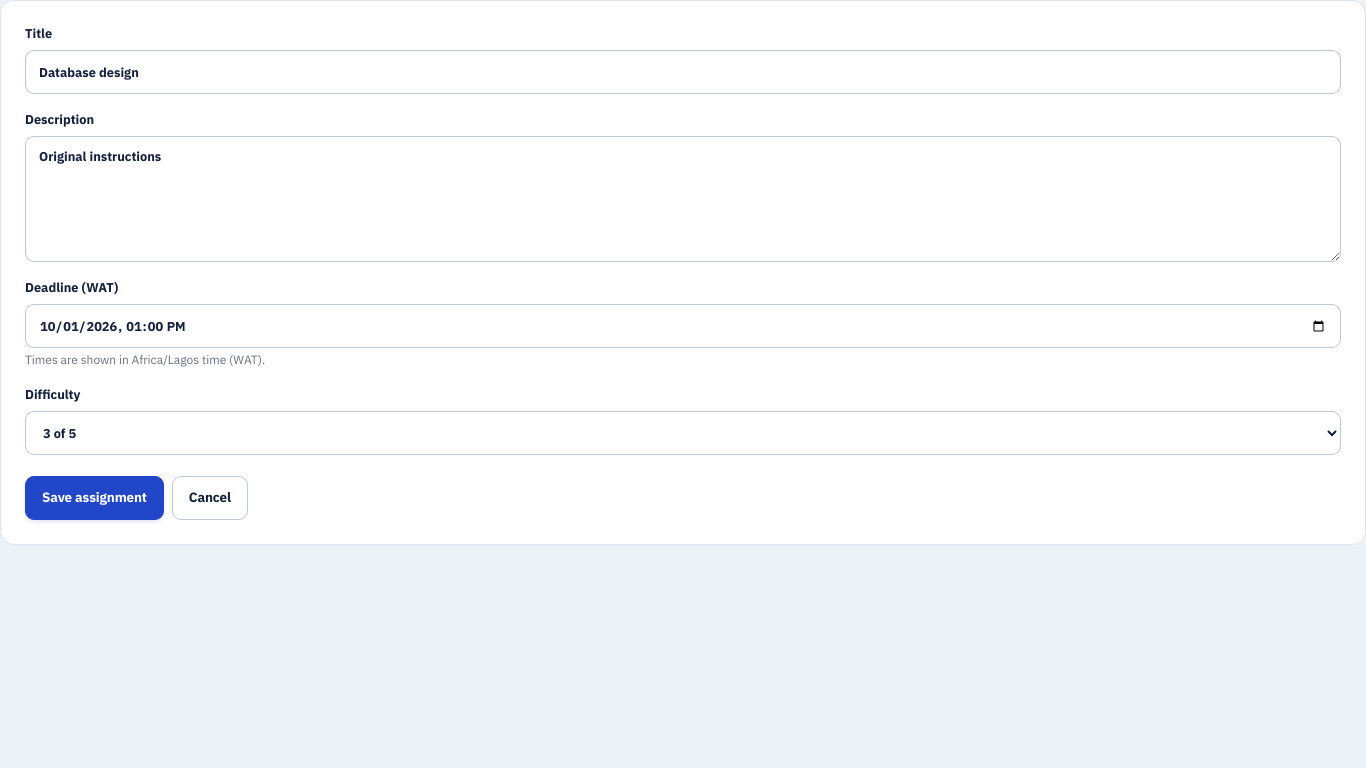
Test: assignment form retains its description after a failed save
This screenshot has width=1366, height=768.
Step 1. Click the button "Save assignment" → [94, 498], box x1=25 y1=476 x2=164 y2=520
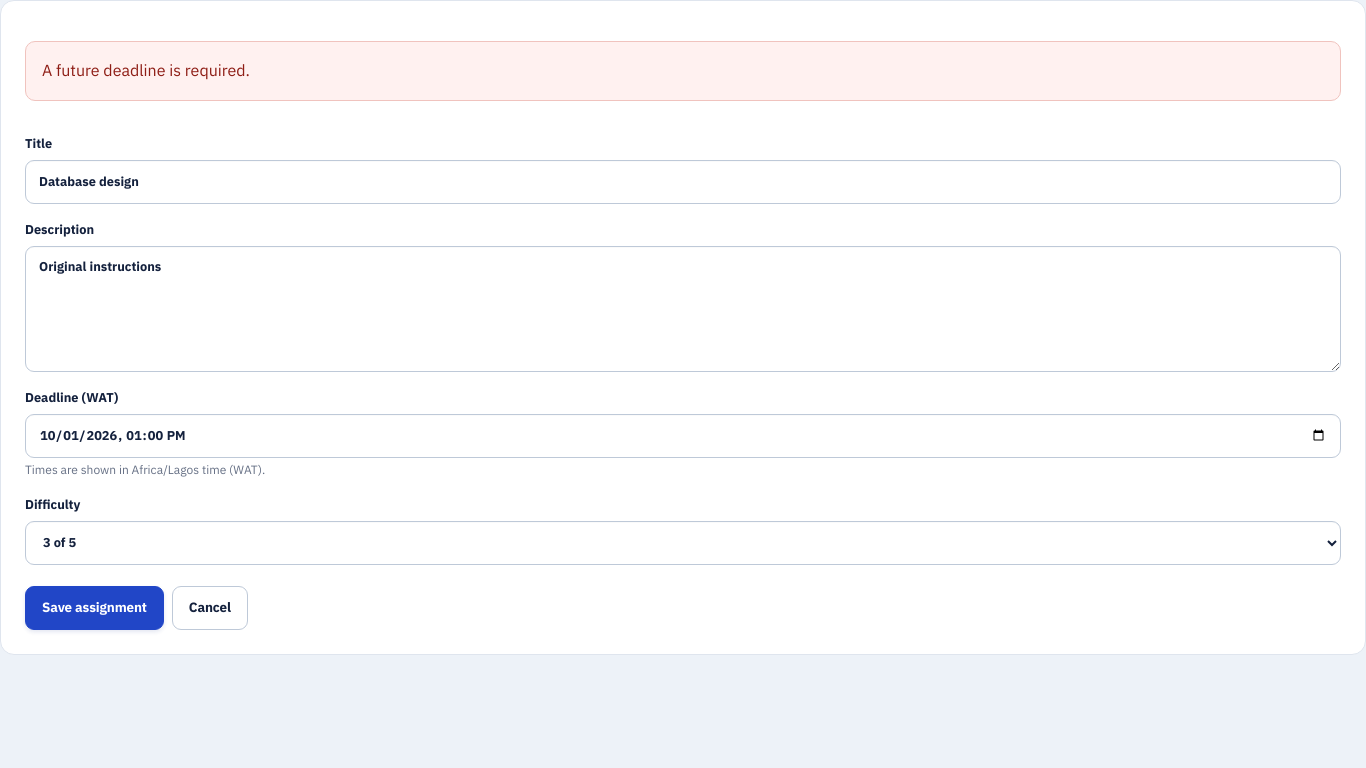
Expected: the text box labelled "Description" holds "Original instructions", x1=25 y1=246 x2=1341 y2=372
Expected: the message shows "future deadline", x1=42 y1=60 x2=250 y2=80
